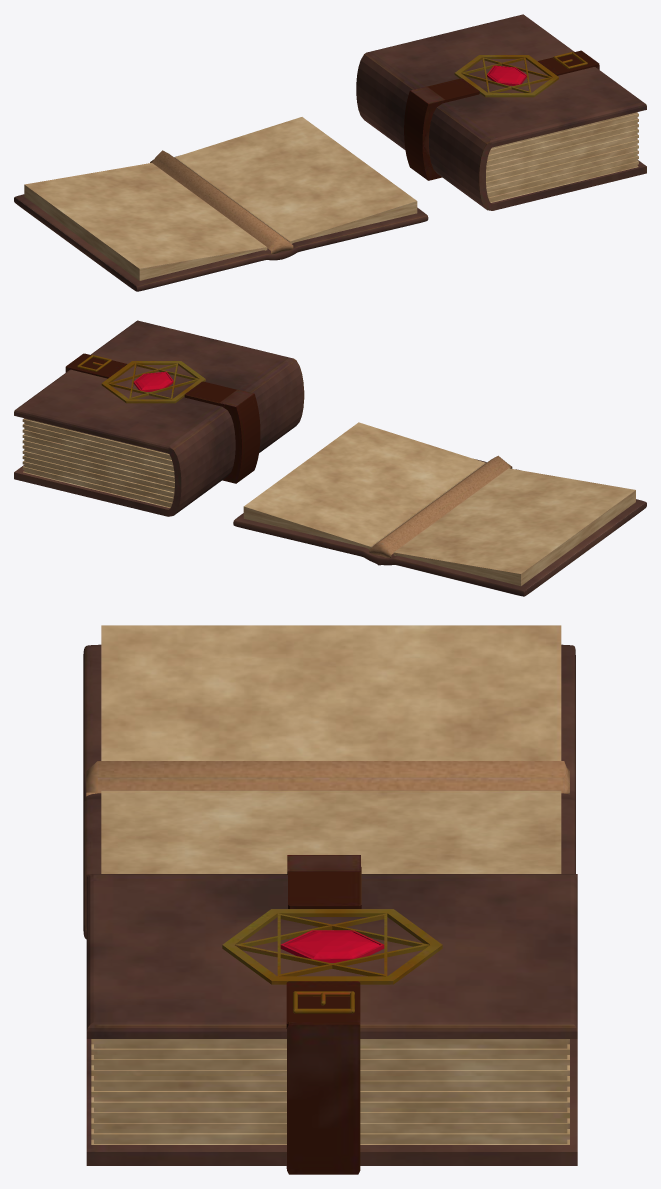
File: book.fbx
3 views of the same model, one above another, from view 1: azimuth 30°, elevation 25°; view 2: azimuth 150°, elevation 25°; view 3: azimuth 270°, elevation 25° (orthographic). The views are drawn at different scales.
Visible parts, largest first — view 1: книга разложенная, книга сложенная; view 2: книга разложенная, книга сложенная; view 3: книга сложенная, книга разложенная.
Part boxes in pixels (left/top/right/bottom): книга разложенная: left=14, top=117, right=428, bottom=291; книга сложенная: left=356, top=14, right=646, bottom=210; книга разложенная: left=233, top=422, right=646, bottom=596; книга сложенная: left=14, top=320, right=304, bottom=516; книга сложенная: left=86, top=855, right=577, bottom=1174; книга разложенная: left=83, top=625, right=575, bottom=939.
Bounding box in the file's own units: 48.25 × 7.01 × 20.14.
